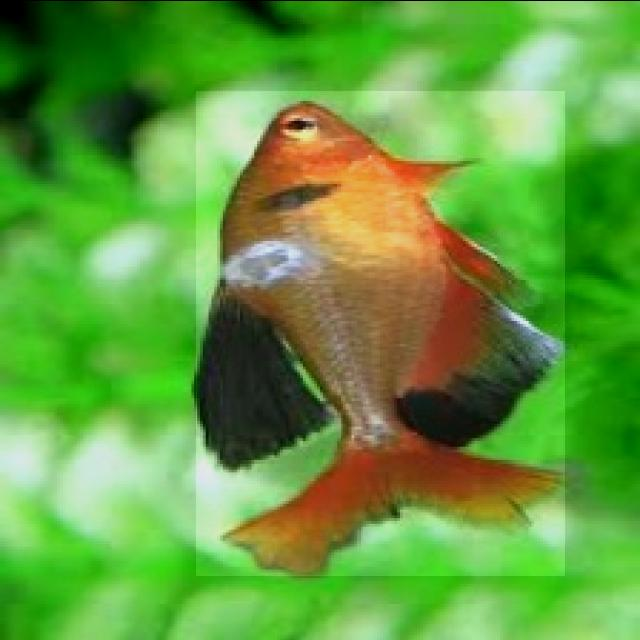Gill Disease: (196, 90, 565, 575)
